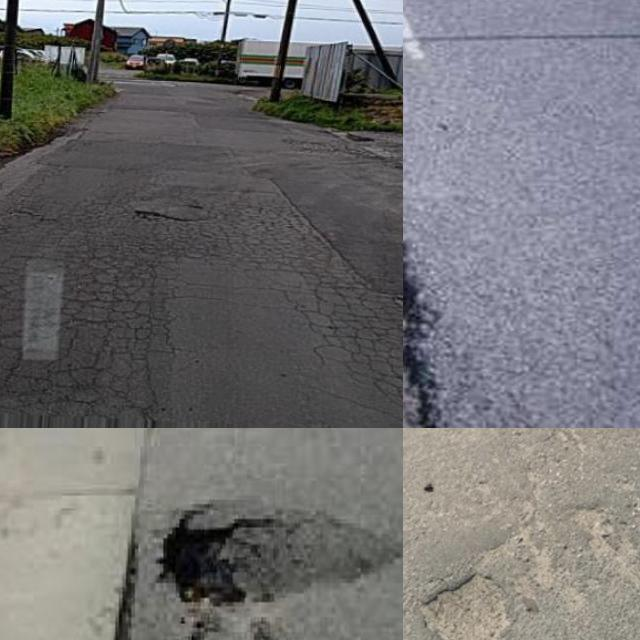Lubang: (154, 511, 403, 612), (418, 577, 519, 640)
Memanjang: (403, 147, 457, 428)
Retak Buaya: (0, 188, 403, 423)
